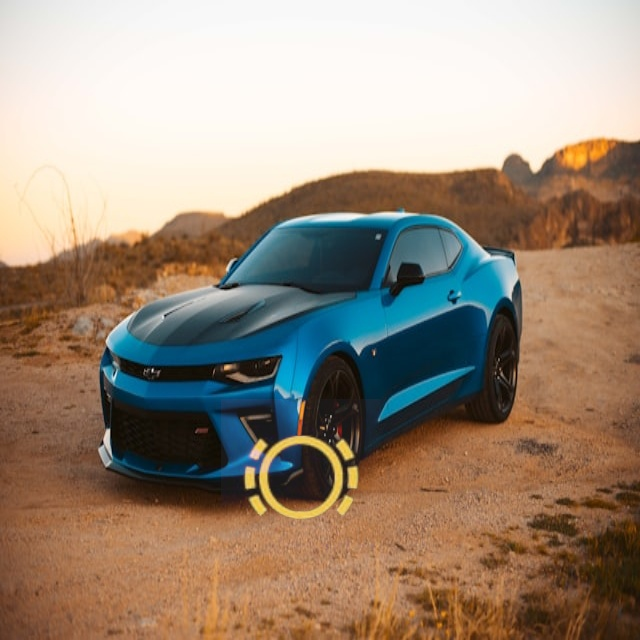symbol: (221, 399, 381, 559)
